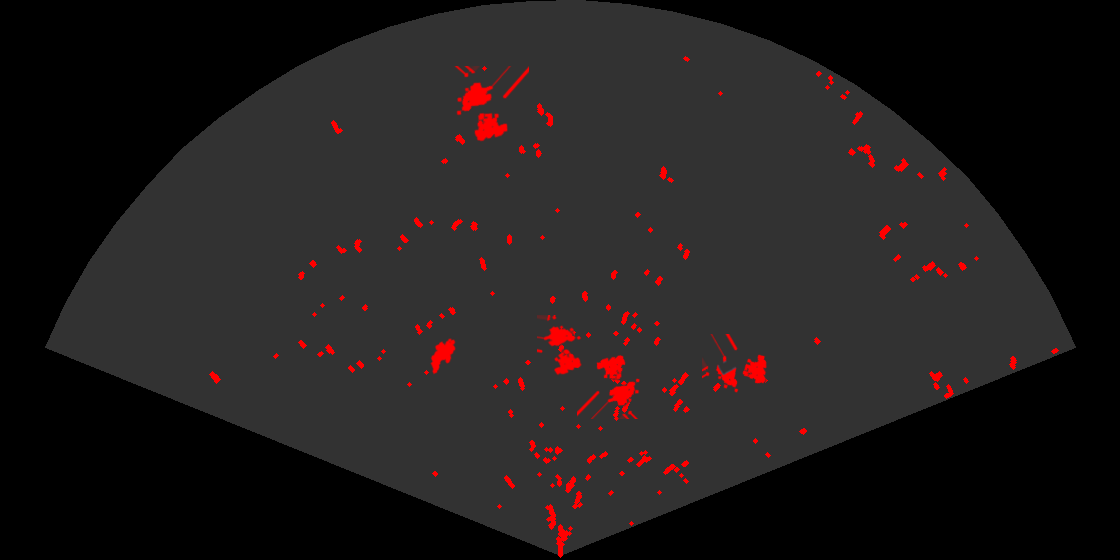AUV: (429, 337, 457, 376)
cage: (453, 66, 529, 143), (577, 353, 641, 419), (702, 334, 769, 394), (537, 315, 583, 377)
